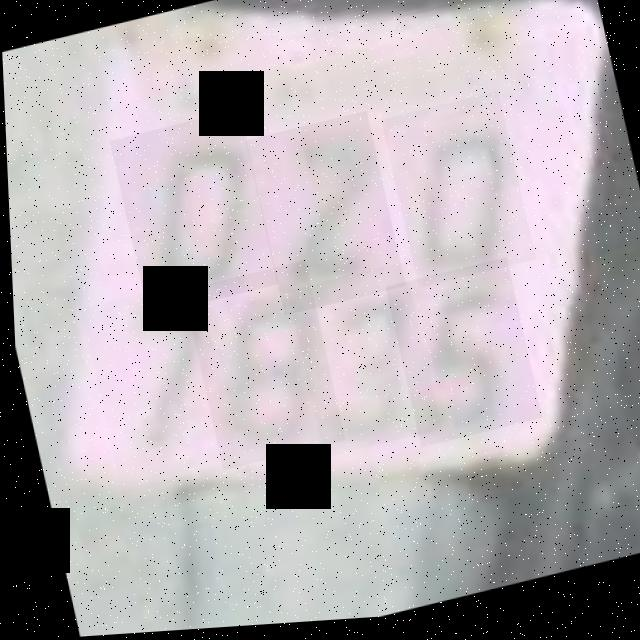2: (77, 280, 236, 497)
3: (283, 265, 438, 463)
5: (381, 262, 539, 454)
8: (179, 262, 341, 474)
O: (107, 111, 276, 319), (379, 96, 533, 294)
Z: (243, 113, 403, 321)
